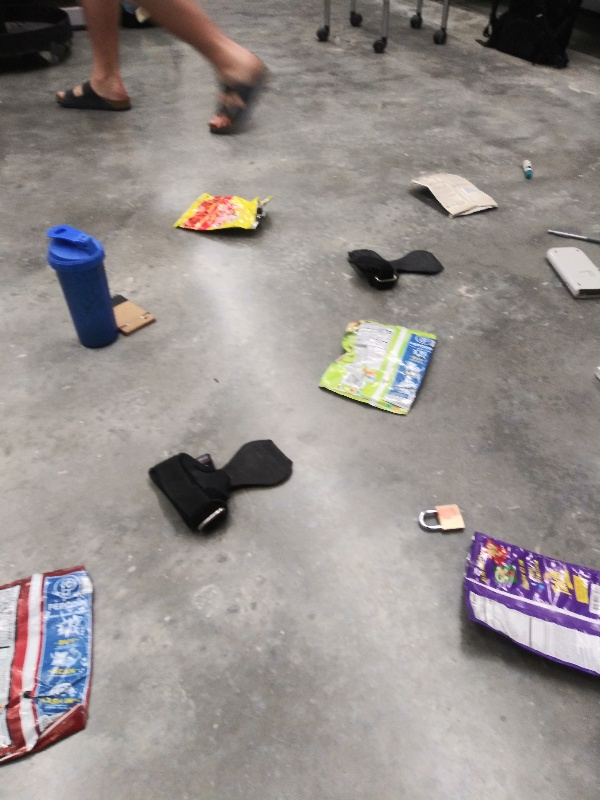bag: (456, 527, 600, 687), (1, 557, 100, 769), (315, 314, 439, 418), (408, 165, 509, 220), (169, 186, 273, 237)
